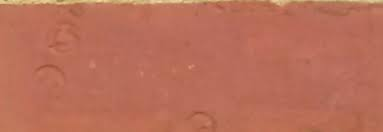brick: (1, 1, 383, 131)
